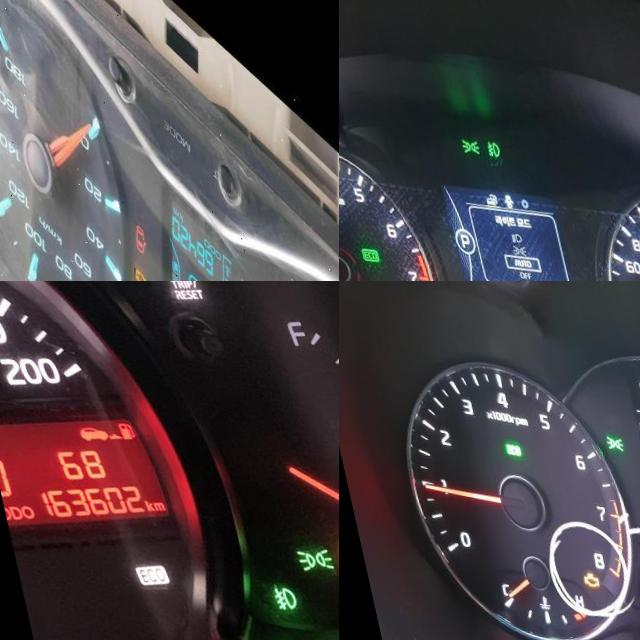FrontFogLight: (252, 574, 281, 603), (475, 126, 491, 146)
Low fuel level: (326, 531, 339, 558)
SideLamp: (277, 531, 320, 565), (450, 125, 471, 143), (590, 424, 610, 442)
